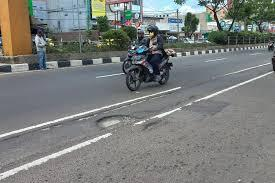Pothole: (73, 104, 167, 142)
